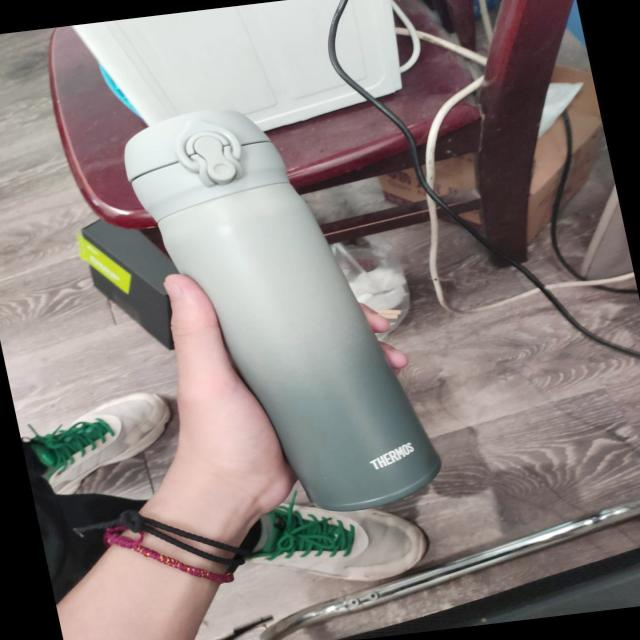bottle: (106, 62, 454, 537)
